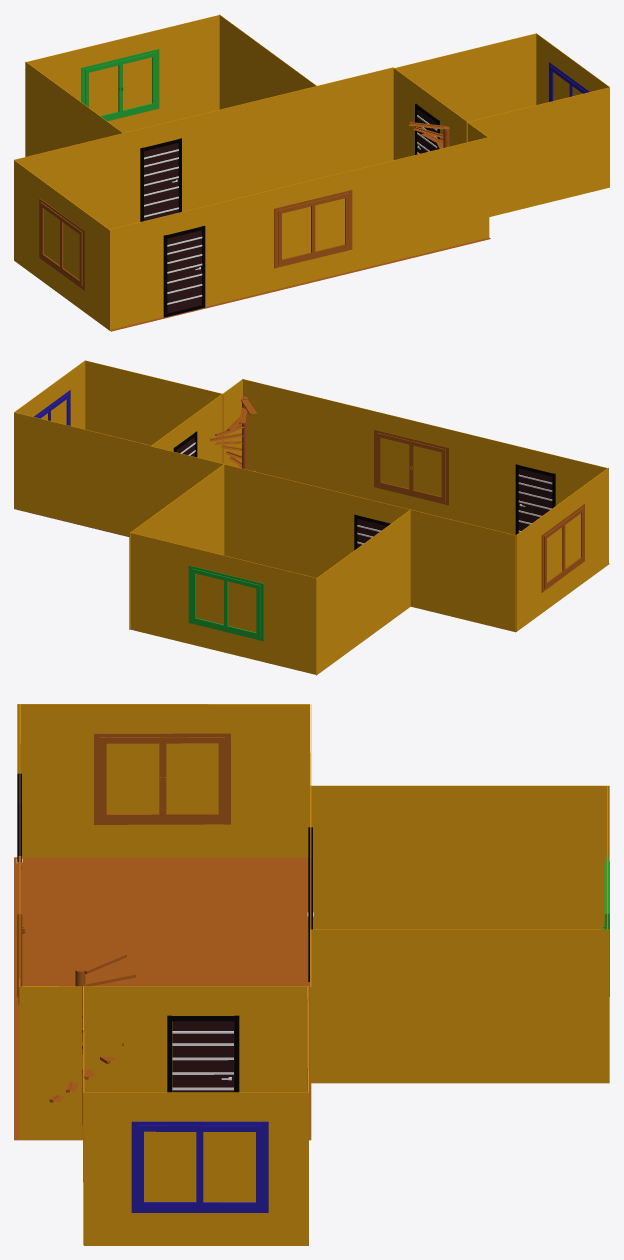
Rendered from Parter.fbx.
3 renders of one model, top to bottom at view 1: azimuth 30°, elevation 25°; view 2: azimuth 150°, elevation 25°; view 3: azimuth 270°, elevation 25°, orthographic. The views are drawn at different scales.
Visible parts, largest first — view 1: Prostokąt; view 2: Prostokąt; view 3: Prostokąt.
Part boxes in pixels (x1,y1,x2,y2): Prostokąt: (14, 14, 609, 331); Prostokąt: (14, 360, 609, 675); Prostokąt: (14, 704, 609, 1245).
Bounding box in the file's own units: 34912 × 6440 × 22504.
